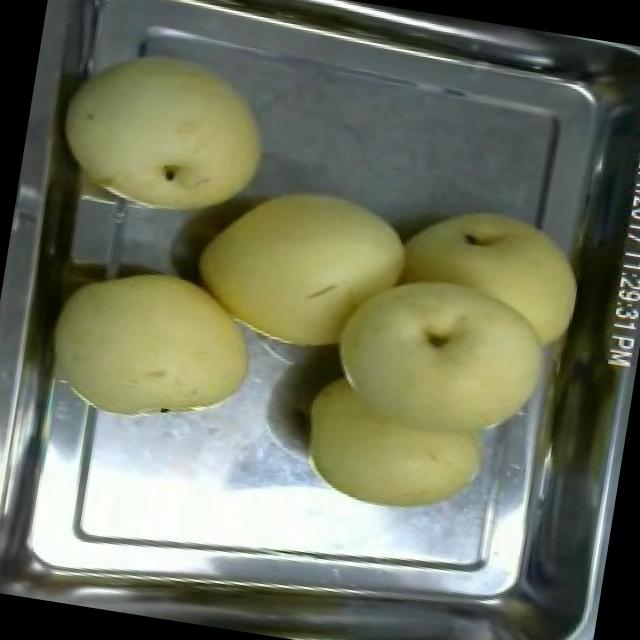Fruit: (312, 177, 586, 473), (42, 29, 290, 242), (178, 164, 422, 374), (28, 245, 276, 450)
